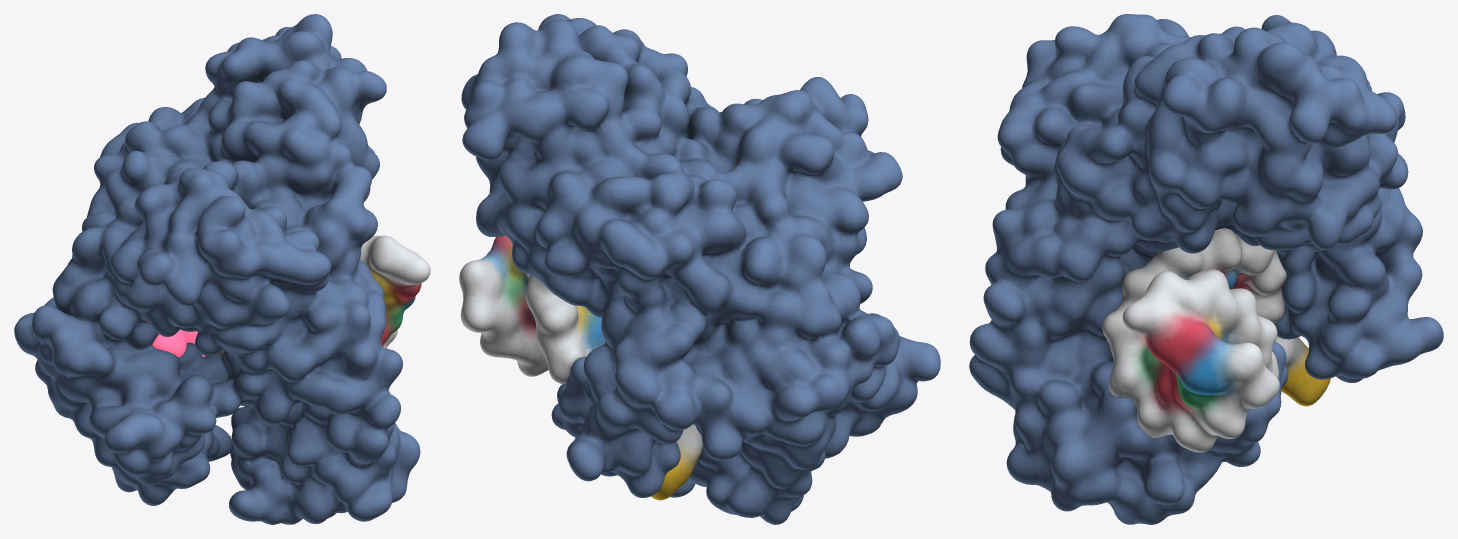
The model's file is 3KTQ.glb.
3 renders of one model, left to right at view 1: azimuth 30°, elevation 25°; view 2: azimuth 150°, elevation 25°; view 3: azimuth 270°, elevation 25°, orthographic. The views are drawn at different scales.
Parts seen in each view (by area): view 1: 3KTQ_protein, 3KTQ_dna, 3KTQ_ddntp; view 2: 3KTQ_protein, 3KTQ_dna; view 3: 3KTQ_protein, 3KTQ_dna.
Part boxes in pixels (bbox=[...]): 3KTQ_protein: bbox=[14, 14, 420, 524]; 3KTQ_dna: bbox=[205, 235, 430, 356]; 3KTQ_ddntp: bbox=[152, 329, 205, 357]; 3KTQ_protein: bbox=[461, 14, 940, 524]; 3KTQ_dna: bbox=[459, 236, 702, 500]; 3KTQ_protein: bbox=[969, 14, 1443, 524]; 3KTQ_dna: bbox=[1102, 228, 1330, 452].
Size of the model in its own units: 6.8 by 7.78 by 6.58.
